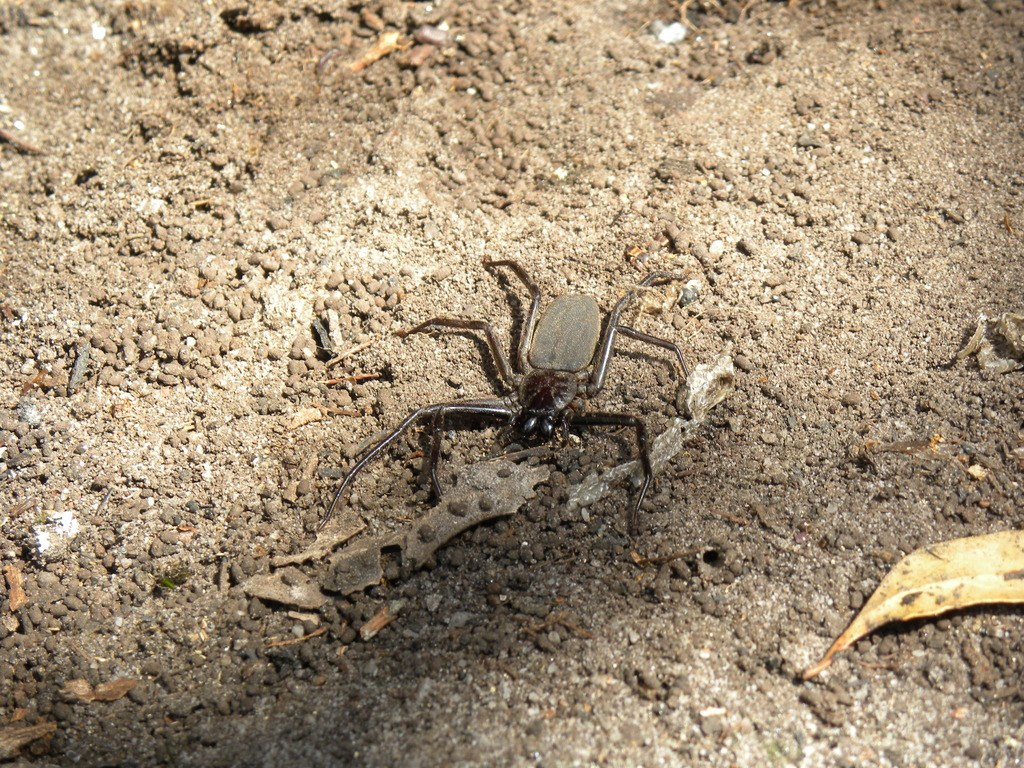insect: (316, 257, 694, 529), (328, 261, 701, 521)
